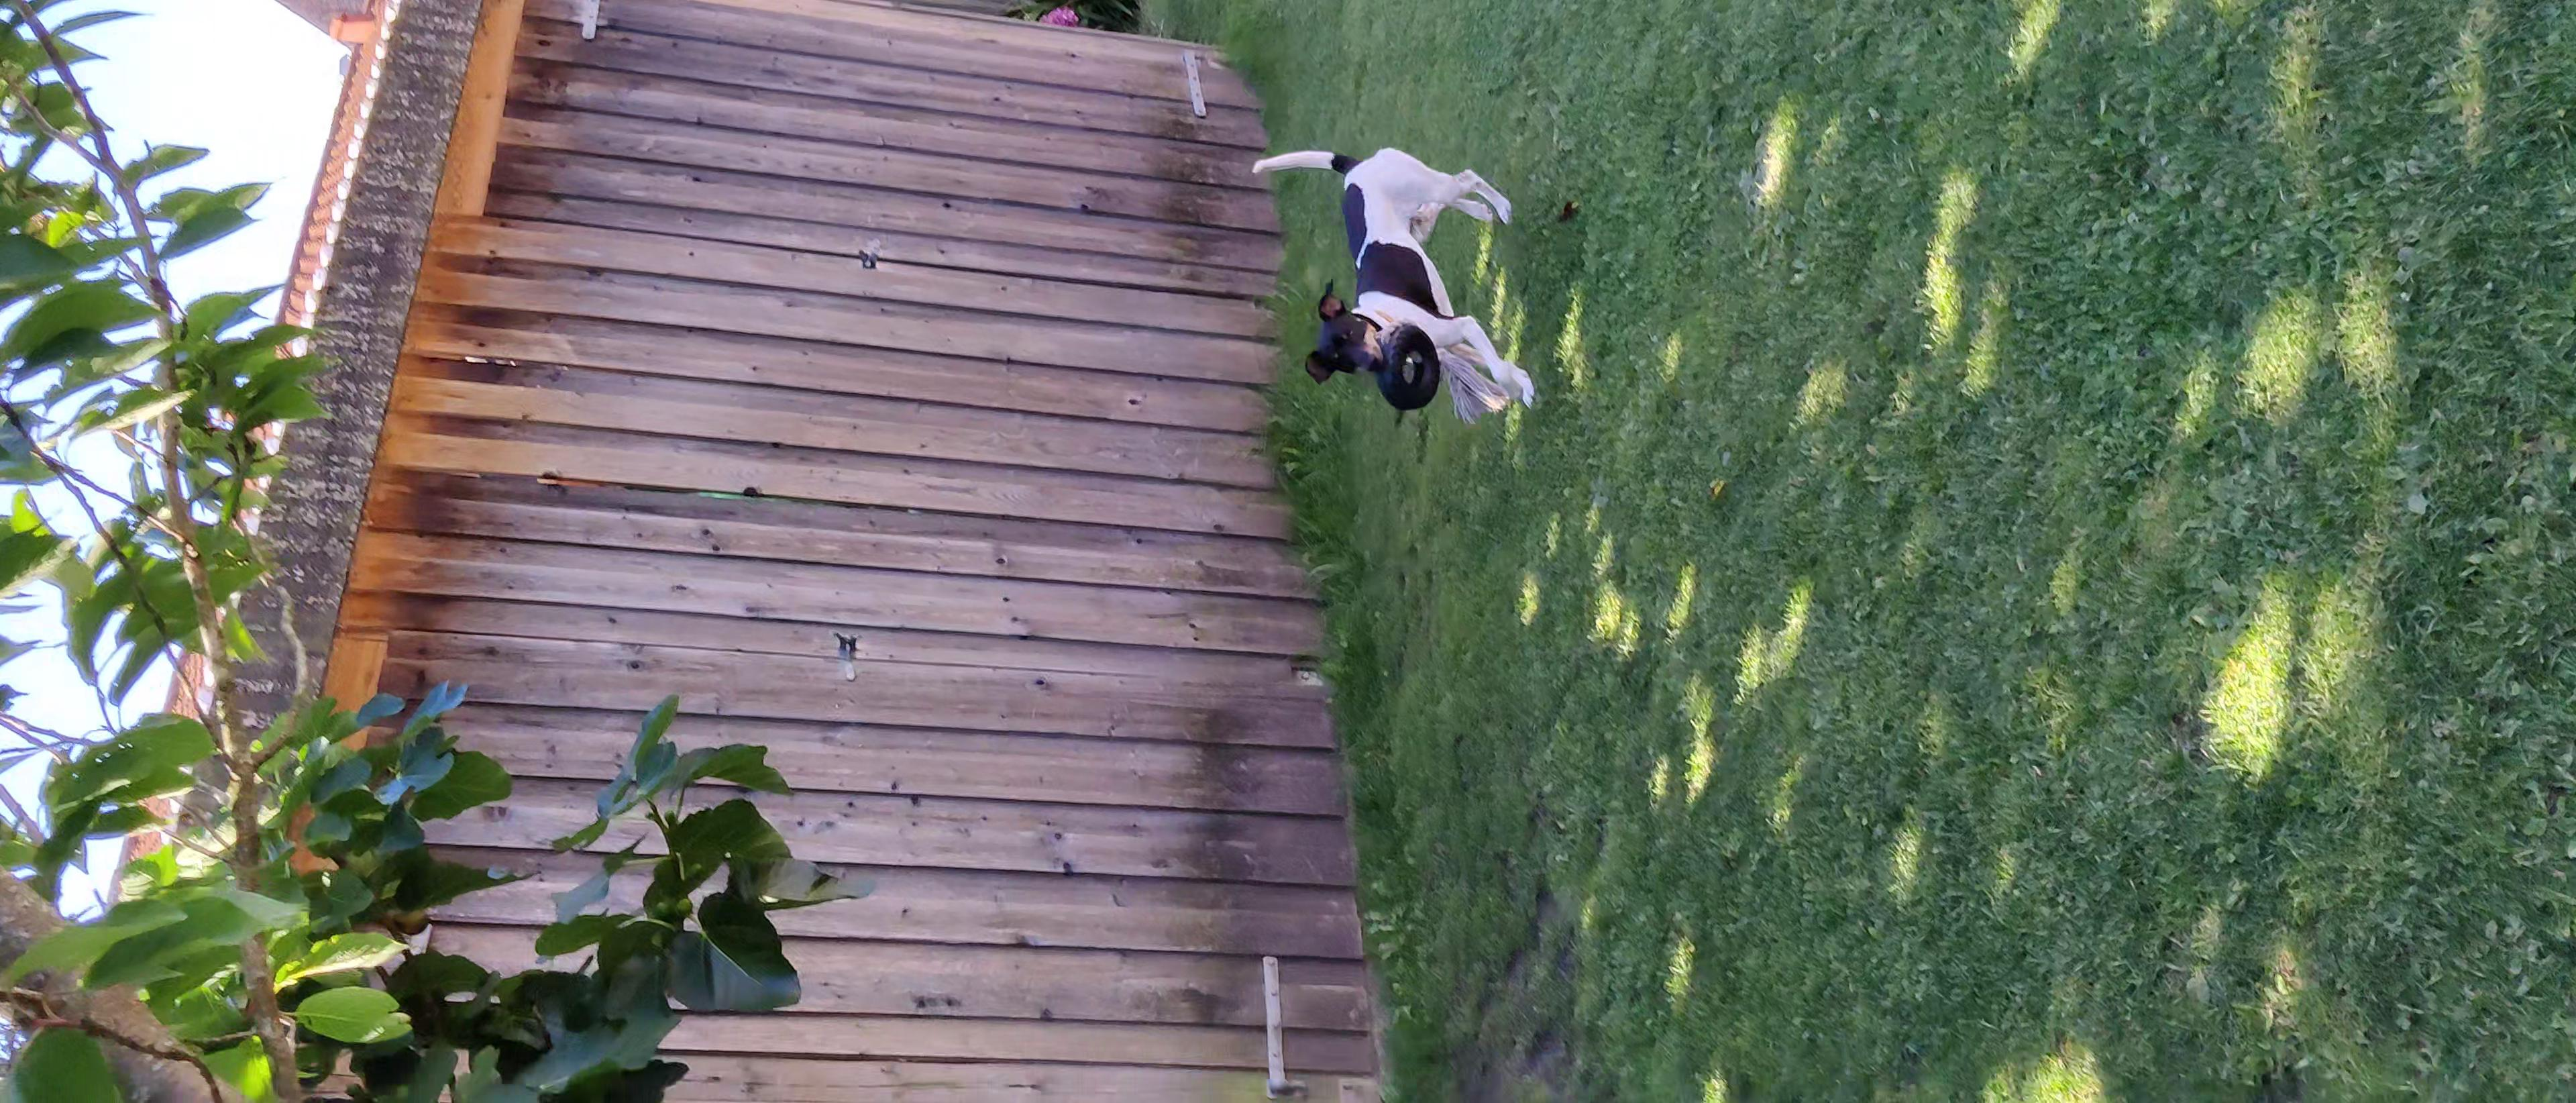Dog: (1239, 135, 1543, 422)
